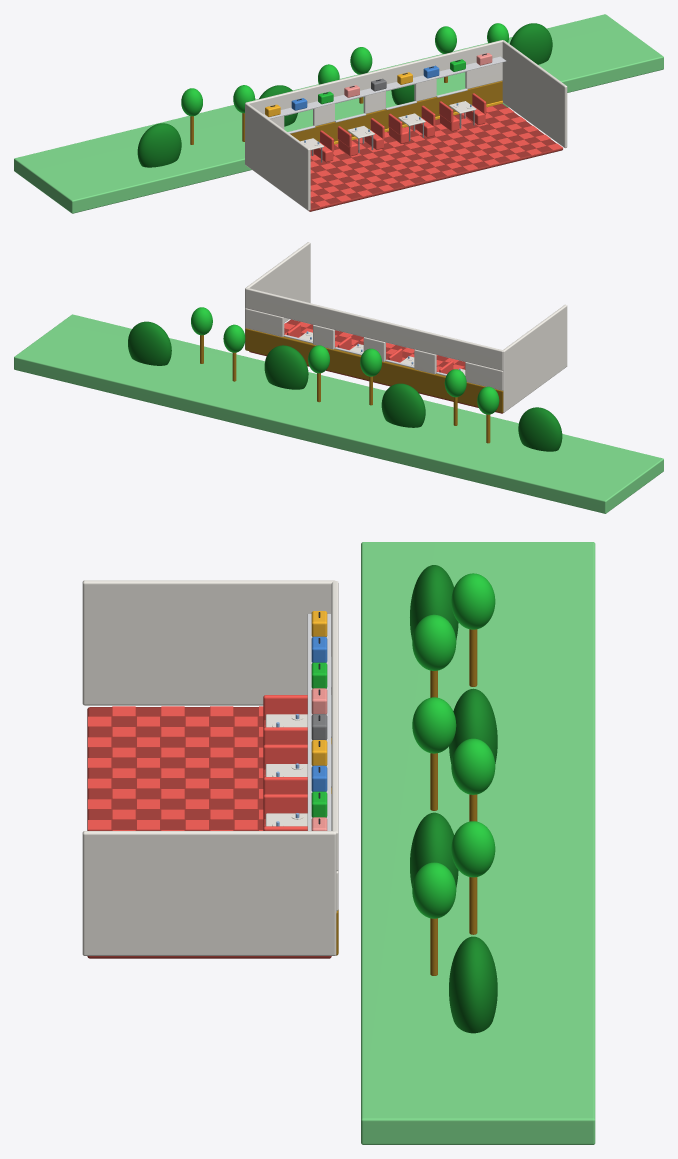
The model's file is train_dining_car.glb.
3 views of the same model, one above another, from view 1: azimuth 30°, elevation 25°; view 2: azimuth 150°, elevation 25°; view 3: azimuth 270°, elevation 25° (orthographic). The views are drawn at different scales.
Parts seen in each view (by area): view 1: Set, Flat_254, Flat_001, Part_229, Part_253, Part_232, Part_243, Part_248, Part_235, Part_237, Part_245, Part_251 (+1 smaller); view 2: Flat_254, Set, Part_229, Part_245, Part_237, Part_253, Flat_001, Part_232, Part_248, Part_235, Part_243, Part_251 (+1 smaller); view 3: Flat_254, Set, Flat_001, Part_253, Part_237, Part_245, Part_229, Part_240, Part_243, Part_232, Part_248, Part_251 (+1 smaller).
Boxes of the visible parts, <box> form: Set: <box>245,40,567,210</box>; Flat_254: <box>14,14,663,213</box>; Flat_001: <box>309,104,562,211</box>; Part_229: <box>137,123,181,167</box>; Part_253: <box>510,23,552,64</box>; Part_232: <box>181,88,202,116</box>; Part_243: <box>350,47,372,74</box>; Part_248: <box>435,26,456,53</box>; Part_235: <box>233,85,255,113</box>; Part_237: <box>259,85,297,126</box>; Part_245: <box>391,84,414,104</box>; Part_251: <box>487,23,508,43</box>; Flat_254: <box>14,314,663,513</box>; Set: <box>245,242,567,412</box>; Part_229: <box>518,407,562,451</box>; Part_245: <box>264,345,308,389</box>; Part_237: <box>381,383,425,427</box>; Part_253: <box>128,321,171,365</box>; Flat_001: <box>249,319,503,413</box>; Part_232: <box>477,386,499,414</box>; Part_248: <box>223,324,245,352</box>; Part_235: <box>444,369,466,397</box>; Part_243: <box>308,345,329,373</box>; Part_251: <box>191,307,212,335</box>; Flat_254: <box>361,542,595,1144</box>; Set: <box>82,580,338,955</box>; Flat_001: <box>87,707,331,958</box>; Part_253: <box>449,936,497,1033</box>; Part_237: <box>449,688,497,763</box>; Part_245: <box>410,812,458,888</box>; Part_229: <box>410,565,458,640</box>; Part_240: <box>412,697,456,753</box>; Part_243: <box>451,738,495,794</box>; Part_232: <box>451,573,495,629</box>; Part_248: <box>451,821,495,877</box>; Part_251: <box>412,862,456,918</box>.
Bounding box in the file's own units: 28 × 3.4 × 10.5.
